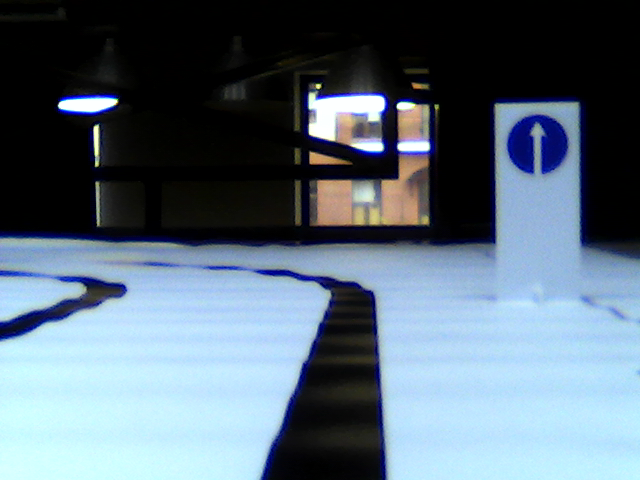forw: (506, 111, 568, 177)
